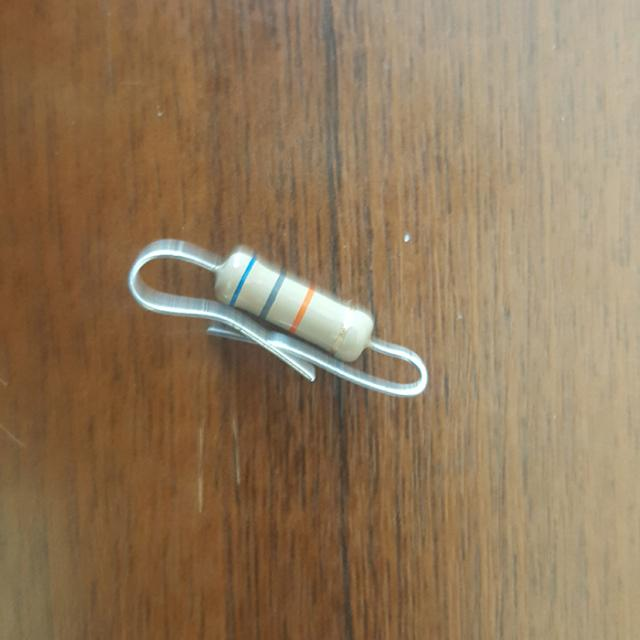blue: (230, 256, 255, 306)
gold: (329, 306, 355, 354)
grey: (259, 272, 284, 320)
orange: (288, 286, 313, 334)
resistor: (193, 225, 397, 384)
